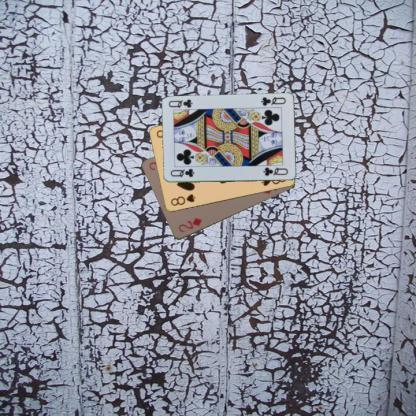2d: (176, 216, 204, 234)
8s: (168, 192, 197, 208)
Qc: (258, 94, 287, 107), (168, 166, 196, 178)
